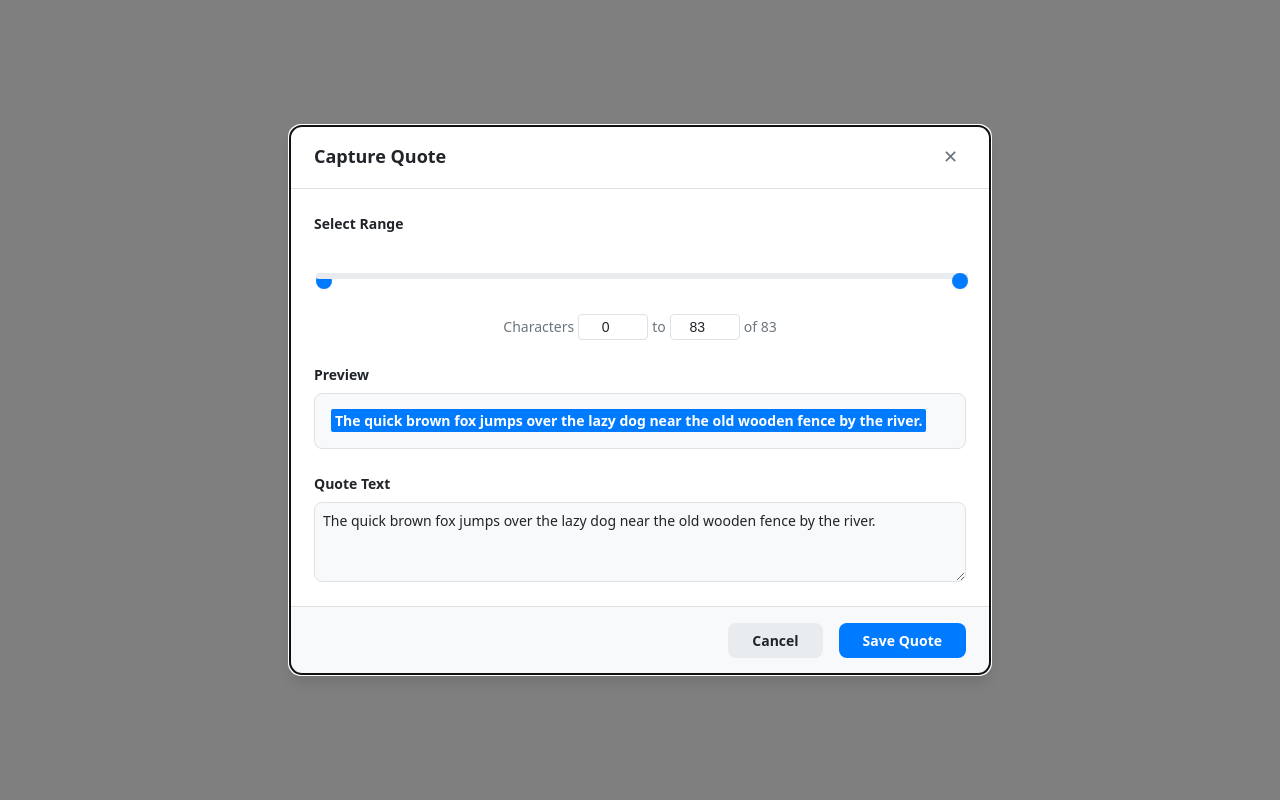
Test: QuoteCaptureModal — save re-derives start/end from the final text › rejects an edit that matches nothing in the source message, without persisting a quote
Replace the text in the text box with placeholder "Edit the quote text here..." with "this text was never said" at (640, 542), box [314,502,966,582]
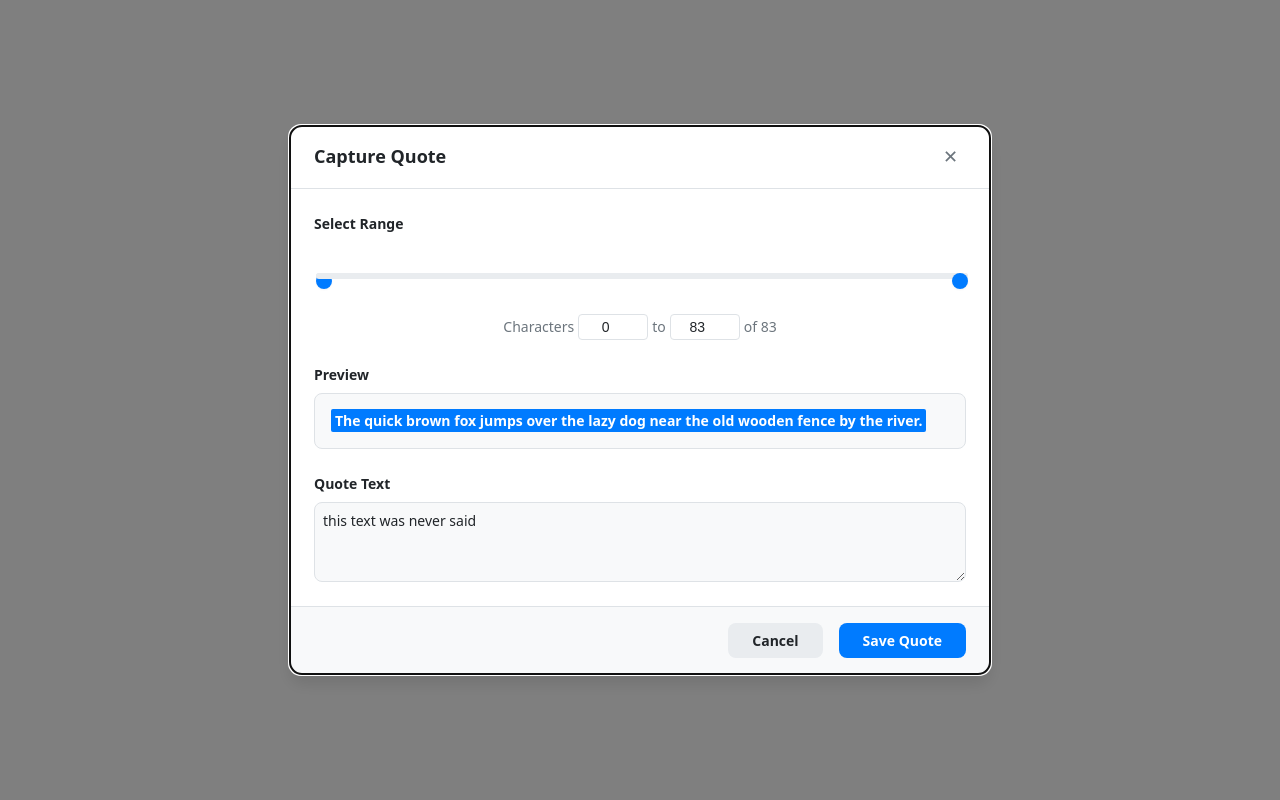
Click the button "Save Quote" at (902, 641), box [839,623,966,658]
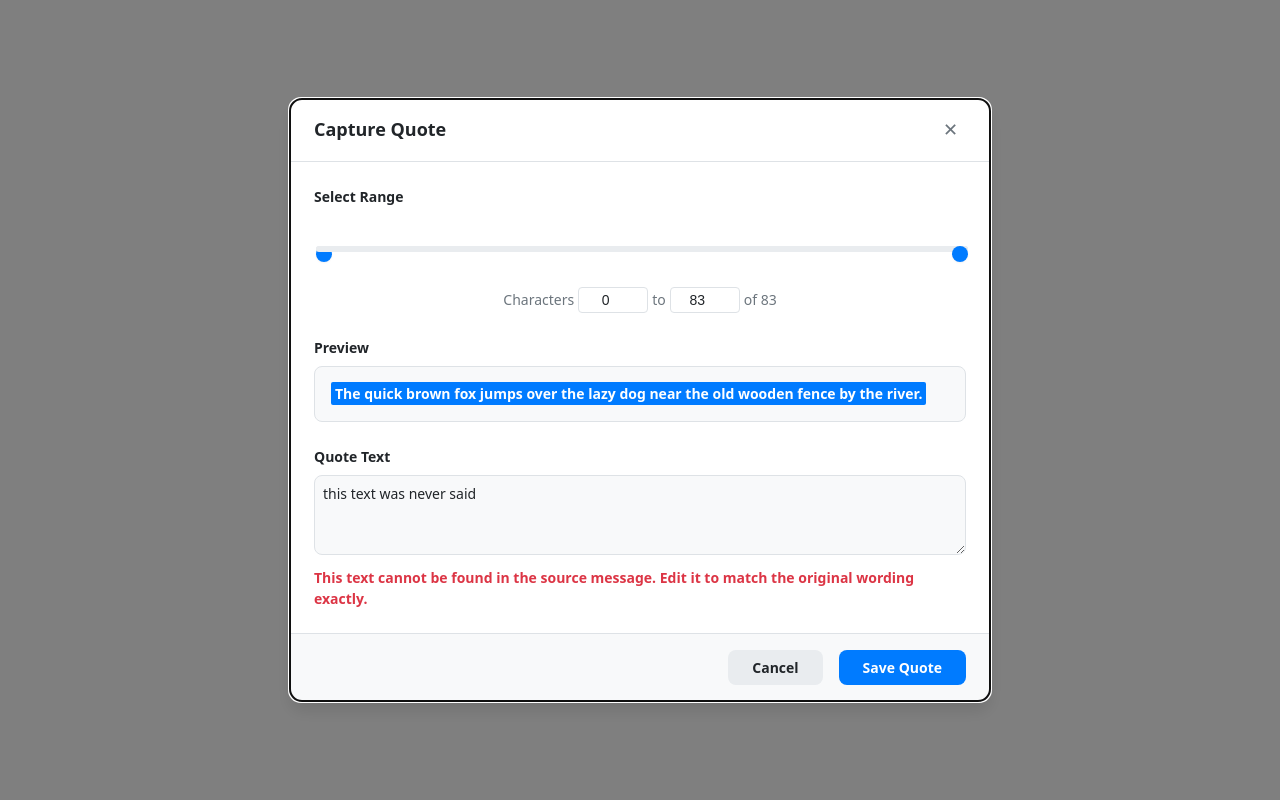
Now the text "cannot be found in the source message" is shown, box [314,568,914,608]
